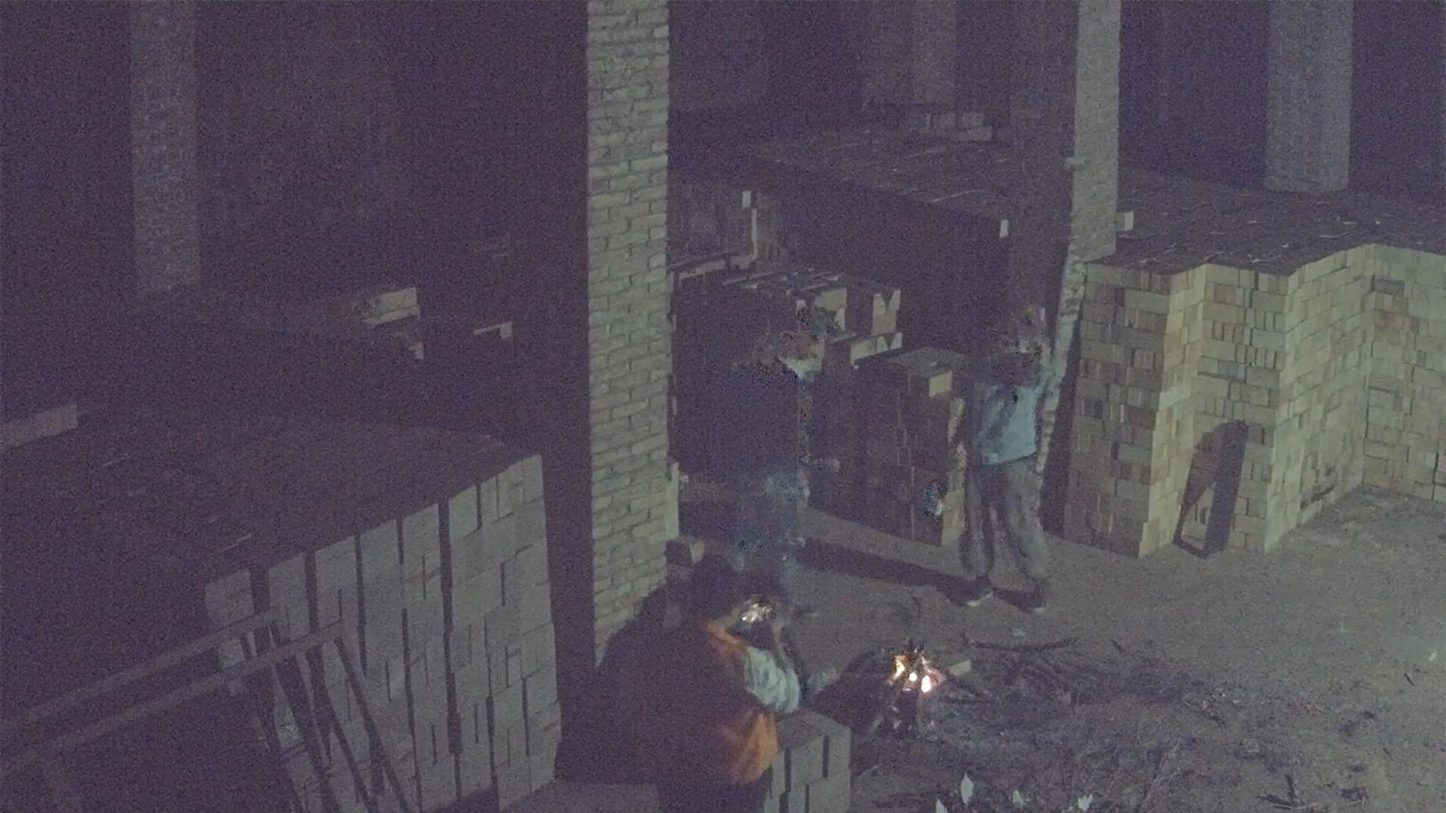fire: (891, 650, 941, 694)
